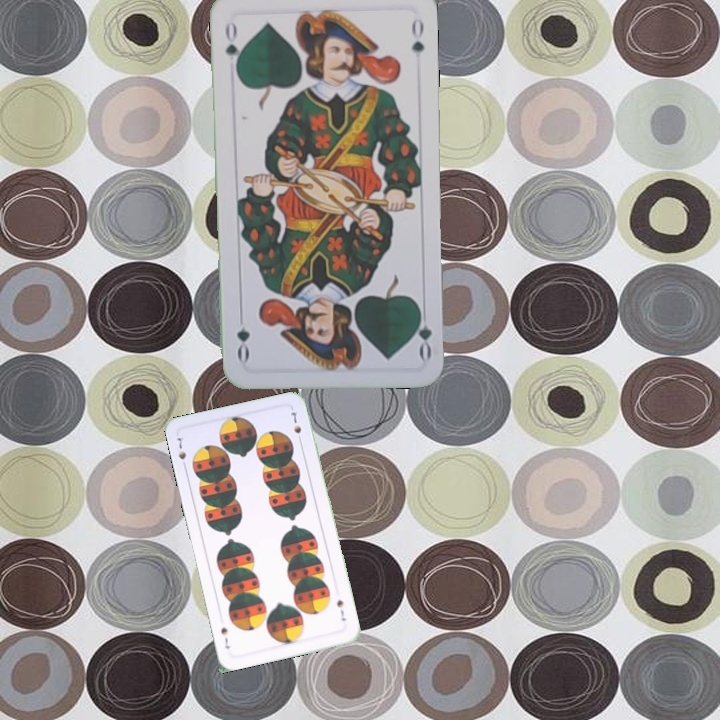GO: (410, 302, 434, 361), (221, 17, 244, 76)
S7: (173, 433, 189, 472), (332, 596, 349, 623)
